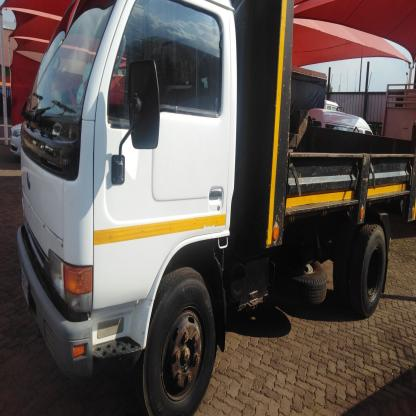dump_truck: (14, 3, 413, 416)
